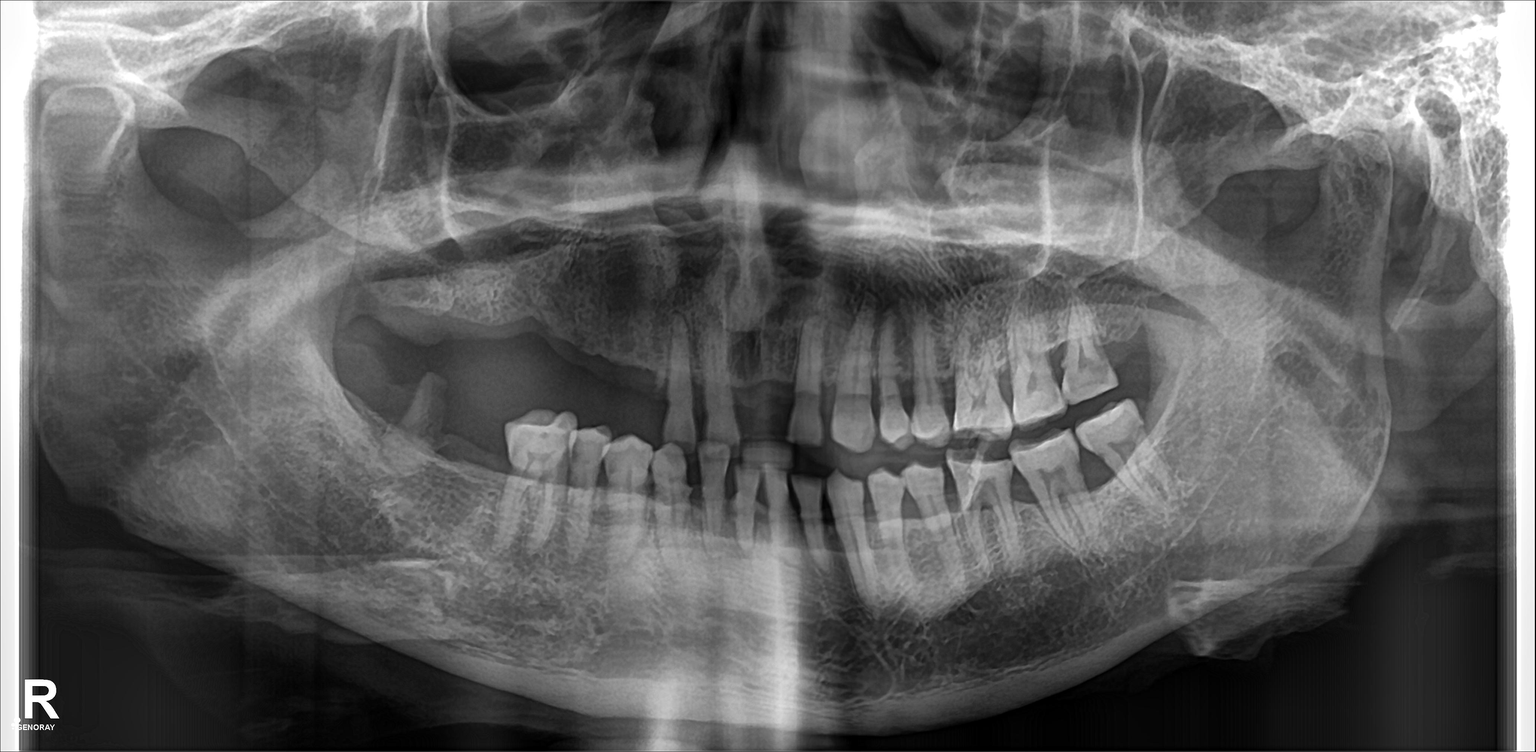Missing Tooth: (350, 369, 393, 462), (544, 302, 583, 395), (596, 300, 636, 390), (737, 339, 785, 413), (495, 296, 532, 380), (400, 285, 441, 358), (451, 285, 487, 367), (1121, 307, 1159, 384), (441, 419, 472, 508), (356, 283, 392, 356), (477, 417, 504, 514)
Retained Root: (395, 378, 447, 456)
